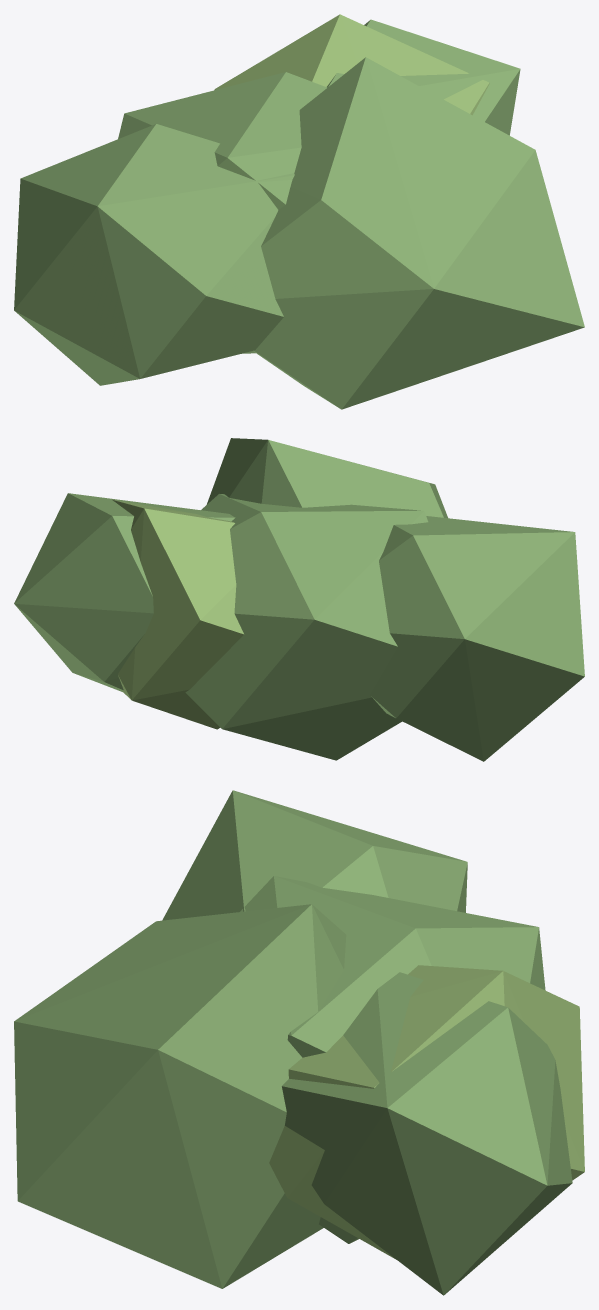
File: bush_gen3.glb
3 views of the same model, one above another, from view 1: azimuth 30°, elevation 25°; view 2: azimuth 150°, elevation 25°; view 3: azimuth 270°, elevation 25° (orthographic). The views are drawn at different scales.
Visible parts, largest first — view 1: hull; view 2: hull; view 3: hull.
Part boxes in pixels (left/top/right/bottom): hull: left=14, top=14, right=584, bottom=409; hull: left=14, top=438, right=584, bottom=761; hull: left=14, top=790, right=584, bottom=1295.
Bounding box in the file's own units: 2.42 × 1.28 × 1.88.
